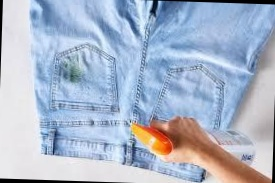earth: (61, 61, 85, 82)
